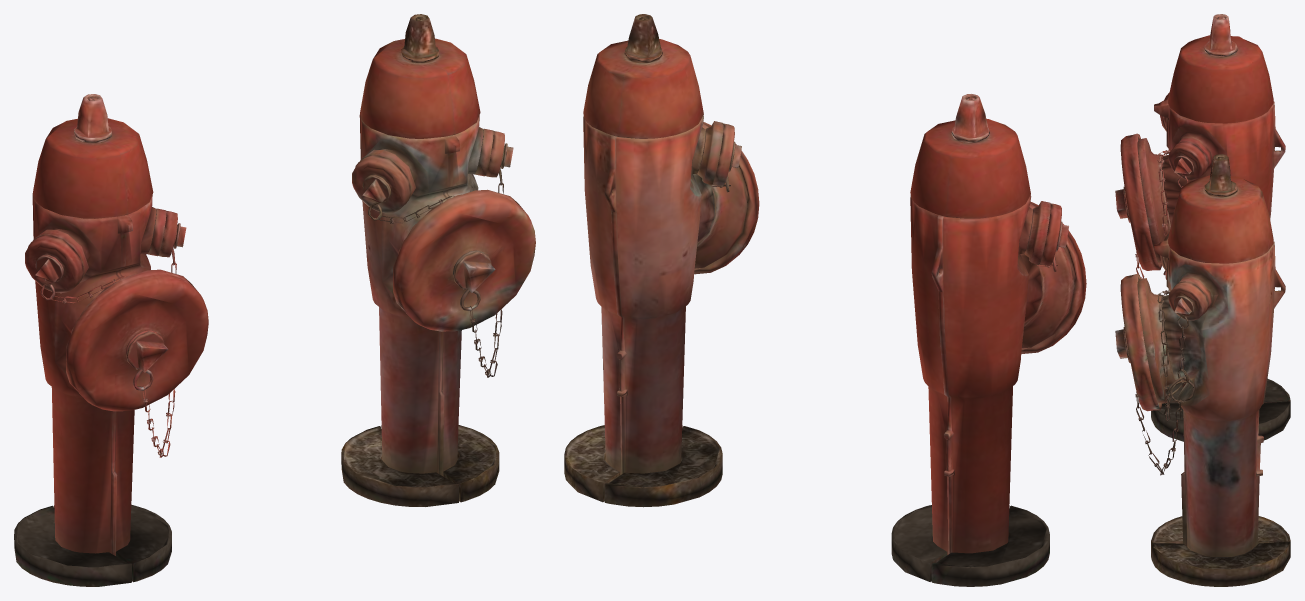
File: hydrant.glb
The picture shows the model from 3 angles, left to right: view 1: azimuth 30°, elevation 25°; view 2: azimuth 150°, elevation 25°; view 3: azimuth 270°, elevation 25°; orthographic projection. The views are drawn at different scales.
Parts seen in each view (by area): view 1: fire_hydrant_aged, fire_hydrant, fire_hydrant_cap_01_aged, fire_hydrant_cap_01, fire_hydrant_cap_03, fire_hydrant_cap_03_aged, fire_hydrant_chain_aged, fire_hydrant_chain, fire_hydrant_cap_02_aged, fire_hydrant_cap_02; view 2: fire_hydrant, fire_hydrant_aged, fire_hydrant_cap_01, fire_hydrant_cap_01_aged, fire_hydrant_cap_03_aged, fire_hydrant_cap_03; view 3: fire_hydrant_aged, fire_hydrant, fire_hydrant_cap_01_aged, fire_hydrant_cap_01, fire_hydrant_chain_aged, fire_hydrant_cap_02_aged, fire_hydrant_cap_02, fire_hydrant_chain.
Part boxes in pixels (left/top/right/bottom): fire_hydrant_aged: left=341, top=14, right=499, bottom=506; fire_hydrant: left=14, top=94, right=171, bottom=586; fire_hydrant_cap_01_aged: left=393, top=189, right=535, bottom=331; fire_hydrant_cap_01: left=66, top=269, right=208, bottom=411; fire_hydrant_cap_03: left=25, top=235, right=83, bottom=293; fire_hydrant_cap_03_aged: left=352, top=155, right=410, bottom=213; fire_hydrant_chain_aged: left=367, top=145, right=504, bottom=377; fire_hydrant_chain: left=40, top=224, right=177, bottom=457; fire_hydrant_cap_02_aged: left=485, top=131, right=513, bottom=177; fire_hydrant_cap_02: left=158, top=211, right=186, bottom=257; fire_hydrant: left=891, top=94, right=1074, bottom=586; fire_hydrant_aged: left=564, top=14, right=747, bottom=507; fire_hydrant_cap_01: left=1021, top=202, right=1086, bottom=353; fire_hydrant_cap_01_aged: left=694, top=122, right=759, bottom=274; fire_hydrant_cap_03_aged: left=712, top=123, right=741, bottom=186; fire_hydrant_cap_03: left=1039, top=203, right=1068, bottom=266; fire_hydrant_aged: left=1138, top=154, right=1290, bottom=586; fire_hydrant: left=1138, top=14, right=1290, bottom=441; fire_hydrant_cap_01_aged: left=1115, top=273, right=1161, bottom=411; fire_hydrant_cap_01: left=1115, top=133, right=1161, bottom=270; fire_hydrant_chain_aged: left=1135, top=290, right=1195, bottom=475; fire_hydrant_cap_02_aged: left=1168, top=281, right=1208, bottom=320; fire_hydrant_cap_02: left=1168, top=141, right=1208, bottom=180; fire_hydrant_chain: left=1135, top=150, right=1192, bottom=279.
Size of the model in its own units: 0.8745 by 0.7994 by 0.3173.
Materials: 2 (2 with a texture image).
